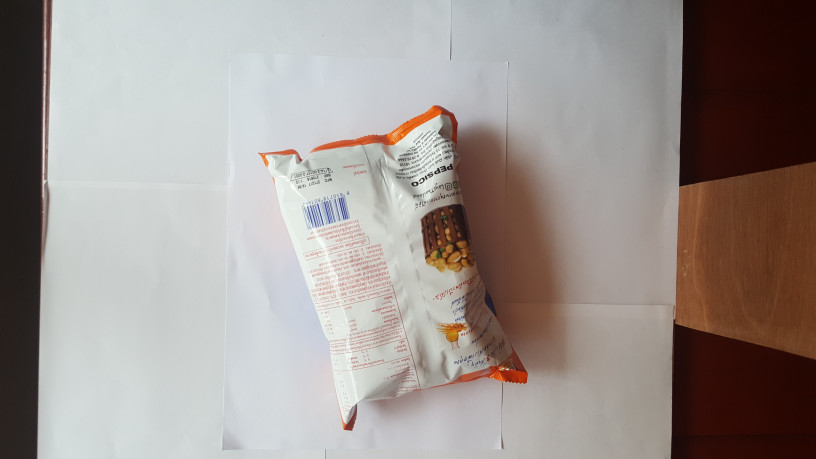lays-bbq: (263, 102, 536, 429)
